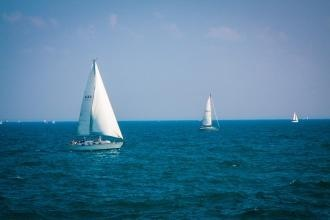fanchuan: (65, 61, 137, 156), (191, 89, 225, 131), (290, 110, 304, 130)
